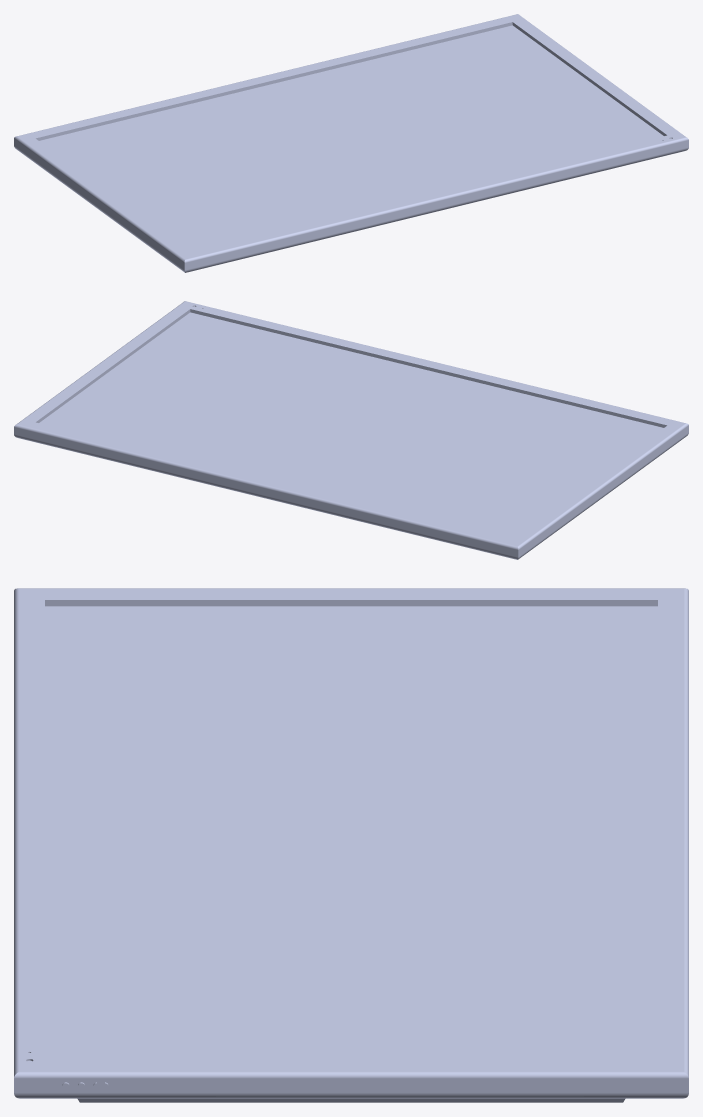
The model's file is tv_screen.FBX.
3 renders of one model, top to bottom at view 1: azimuth 30°, elevation 25°; view 2: azimuth 150°, elevation 25°; view 3: azimuth 270°, elevation 25°, orthographic. The views are drawn at different scales.
Visible parts, largest first — view 1: Boss-Extrude3; view 2: Boss-Extrude3; view 3: Boss-Extrude3.
Boxes of the visible parts, x1,y1,x2,y2 form: Boss-Extrude3: (14,14,688,272); Boss-Extrude3: (14,301,688,559); Boss-Extrude3: (14,588,688,1102).
Bounding box in the file's own units: 0.00111 × 6e-05 × 0.00065.
